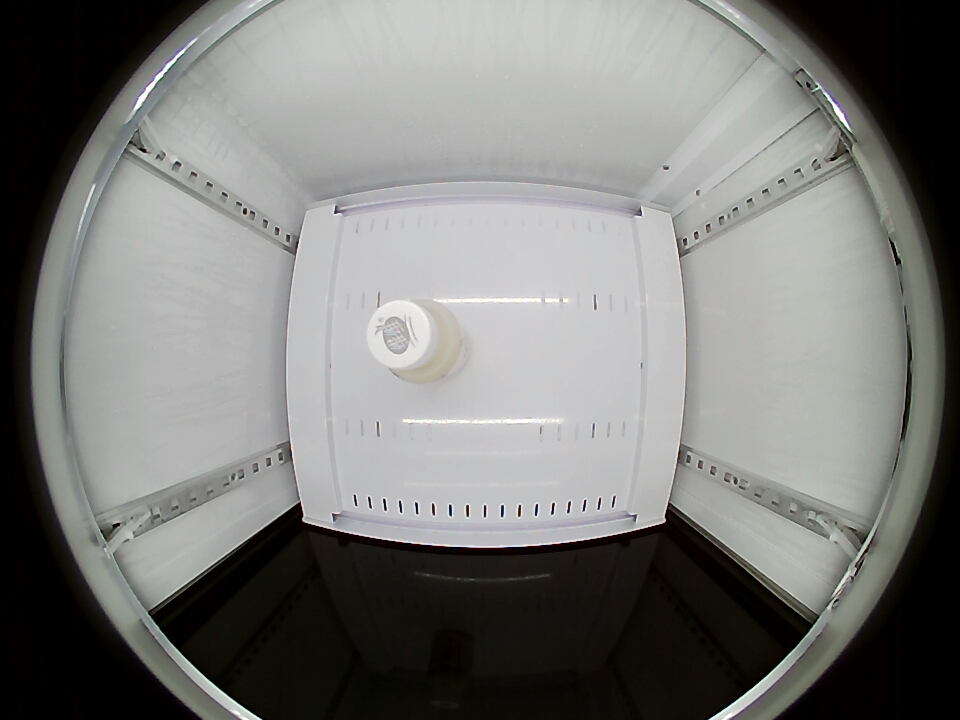weiweidounai: (367, 298, 465, 384)
